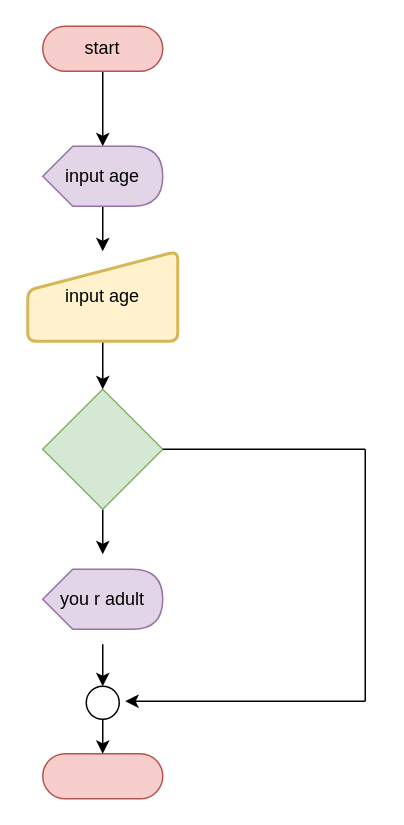
Some shapes in this 404 by 825 pixel diagram are drawn without their labels. The centre of each missing label's shape, as x and y in pixels:
"end" goes at point (102, 775).
"if age >= 18" goes at point (102, 448).
